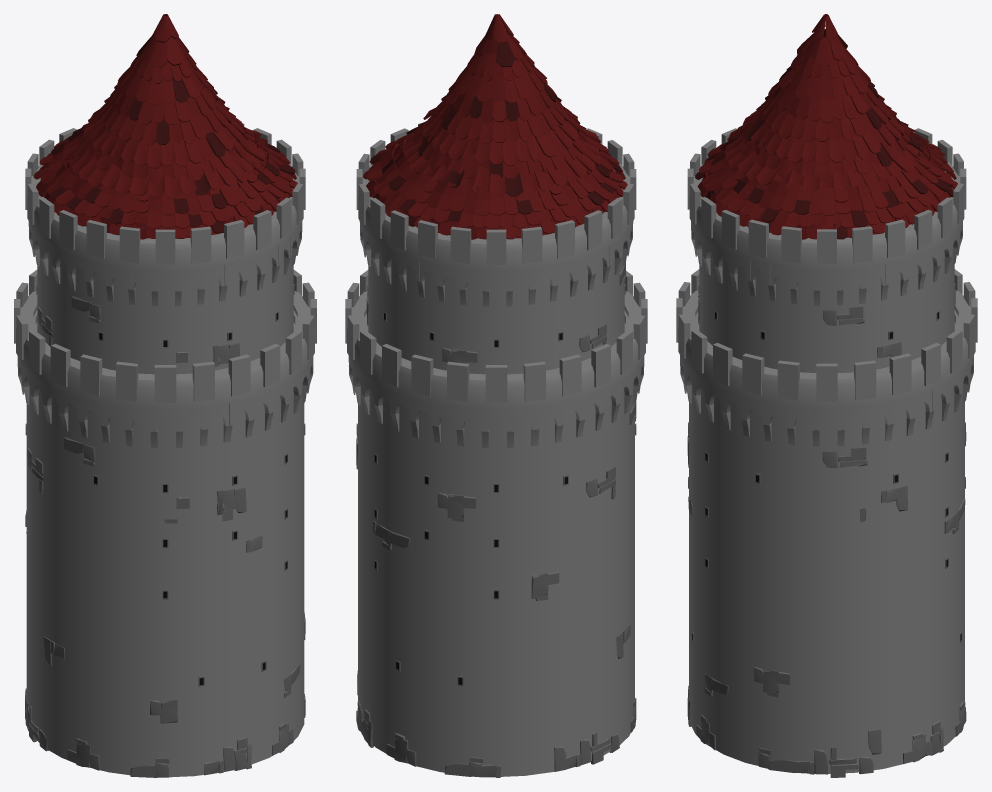
The model's file is SM_tower_03.fbx.
The picture shows the model from 3 angles, left to right: view 1: azimuth 30°, elevation 25°; view 2: azimuth 150°, elevation 25°; view 3: azimuth 270°, elevation 25°; orthographic projection.
Parts seen in each view (by area): view 1: Cylinder033; view 2: Cylinder033; view 3: Cylinder033.
Part boxes in pixels (bbox=[...]): Cylinder033: bbox=[14, 14, 316, 777]; Cylinder033: bbox=[345, 14, 647, 777]; Cylinder033: bbox=[676, 14, 977, 777].
Size of the model in its own units: 429 by 429 by 1108.
